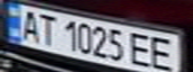0: (75, 20, 93, 55)
1: (57, 17, 78, 52)
2: (90, 24, 109, 61)
5: (106, 26, 130, 64)
A: (15, 7, 42, 43)
E: (145, 34, 184, 72), (127, 30, 157, 69)
T: (33, 12, 60, 46)
